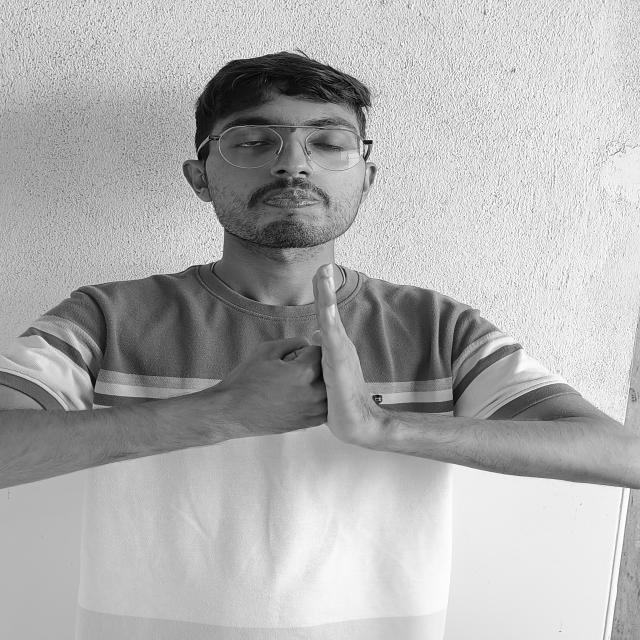Well Done: (146, 251, 457, 478)
